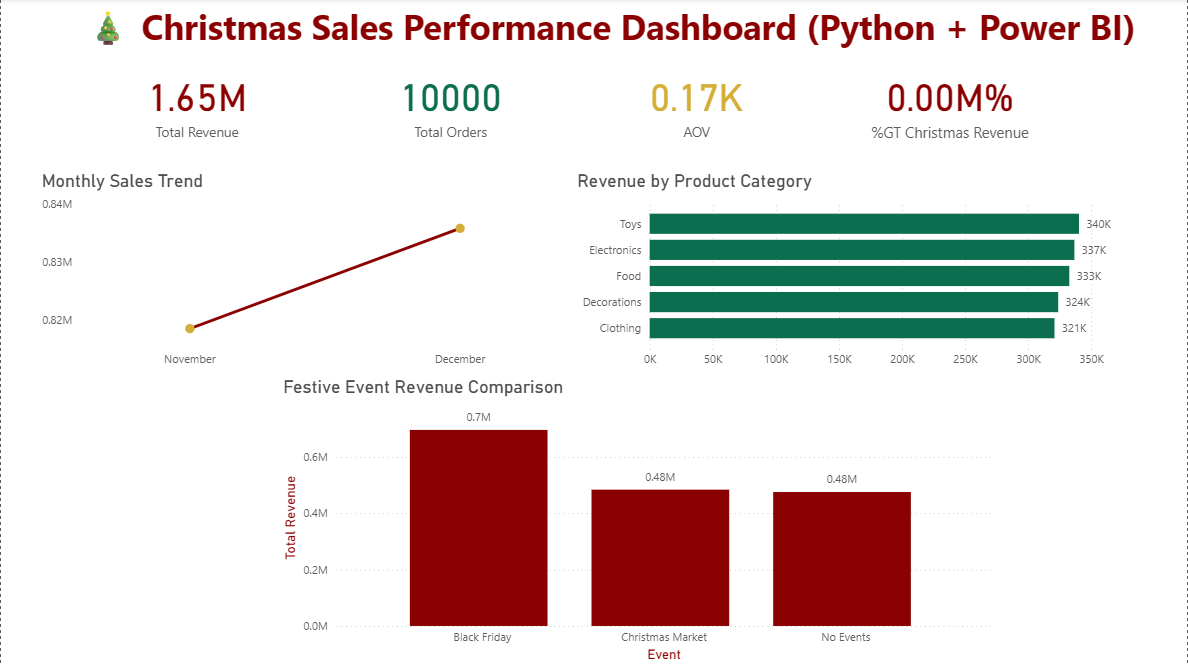

What the dashboard file says about the page in this screenshot:
{"tool":"powerbi","page":{"name":"Page 1","canvas":[1280,720],"ordinal":0},"visuals":[{"type":"card","fields":{"Values":["Christmas_Sales_Final_Cleaned.Total Orders"]},"box":[353,51.8,263.9,123.1],"z":0},{"type":"card","fields":{"Values":["Christmas_Sales_Final_Cleaned.Total Revenue"]},"box":[69.6,51.8,283.4,123.1],"z":1000},{"type":"card","fields":{"Values":["Christmas_Sales_Final_Cleaned.AOV"]},"box":[616.9,51.8,267.2,123.1],"z":2000},{"type":"card","fields":{"Values":["Christmas_Sales_Final_Cleaned.Christmas Revenue"]},"box":[884.1,51.8,280.1,123.1],"z":3000},{"type":"lineChart","title":"Monthly Sales Trend","fields":{"Category":["Christmas_Sales_Final_Cleaned.Date.Variation.Date Hierarchy.Month"],"Y":["Christmas_Sales_Final_Cleaned.Total Revenue"]},"box":[38.9,186.2,578.1,221.8],"z":3001},{"type":"clusteredBarChart","title":"Revenue by Product Category","fields":{"Category":["Christmas_Sales_Final_Cleaned.Category"],"Y":["Christmas_Sales_Final_Cleaned.Total Revenue"]},"box":[616.9,186.2,612.1,221.8],"z":3002},{"type":"clusteredColumnChart","title":"Festive Event Revenue Comparison","fields":{"Category":["Christmas_Sales_Final_Cleaned.Event"],"Y":["Christmas_Sales_Final_Cleaned.Total Revenue"]},"box":[299.6,408,774,312.5],"z":3003},{"type":"textbox","box":[69.6,0,1175.6,74.5],"z":3004}]}

Visuals, with their boxes in screenshot pixels (x1, y1, x2, y2), scaled from the page's 1280x720 canvas onto the 1188x665 screenshot:
card - Christmas_Sales_Final_Cleaned.Total Orders: {"left": 328, "top": 48, "right": 573, "bottom": 162}
card - Christmas_Sales_Final_Cleaned.Total Revenue: {"left": 65, "top": 48, "right": 328, "bottom": 162}
card - Christmas_Sales_Final_Cleaned.AOV: {"left": 573, "top": 48, "right": 821, "bottom": 162}
card - Christmas_Sales_Final_Cleaned.Christmas Revenue: {"left": 821, "top": 48, "right": 1081, "bottom": 162}
"Monthly Sales Trend" lineChart: {"left": 36, "top": 172, "right": 573, "bottom": 377}
"Revenue by Product Category" clusteredBarChart: {"left": 573, "top": 172, "right": 1141, "bottom": 377}
"Festive Event Revenue Comparison" clusteredColumnChart: {"left": 278, "top": 377, "right": 996, "bottom": 664}
textbox: {"left": 65, "top": 0, "right": 1156, "bottom": 69}
